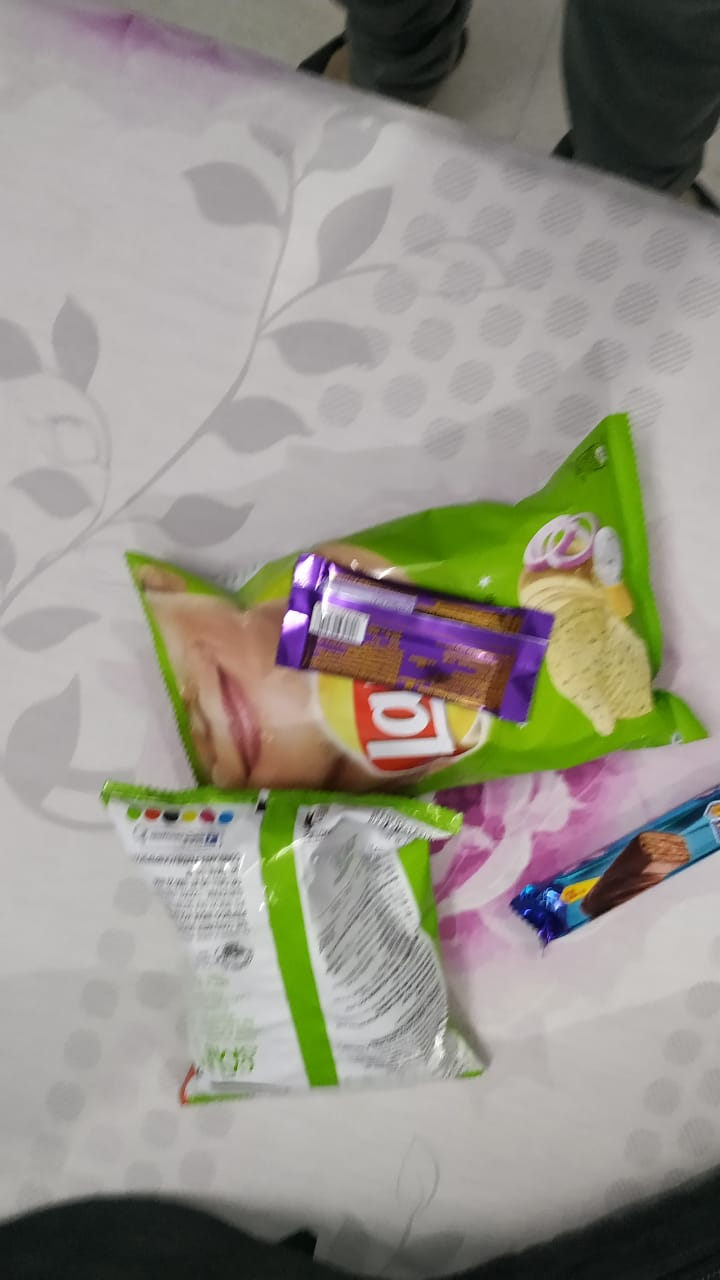dairy milk: (282, 559, 547, 717)
lays chips: (97, 780, 497, 1096)
perk: (499, 792, 720, 947)
